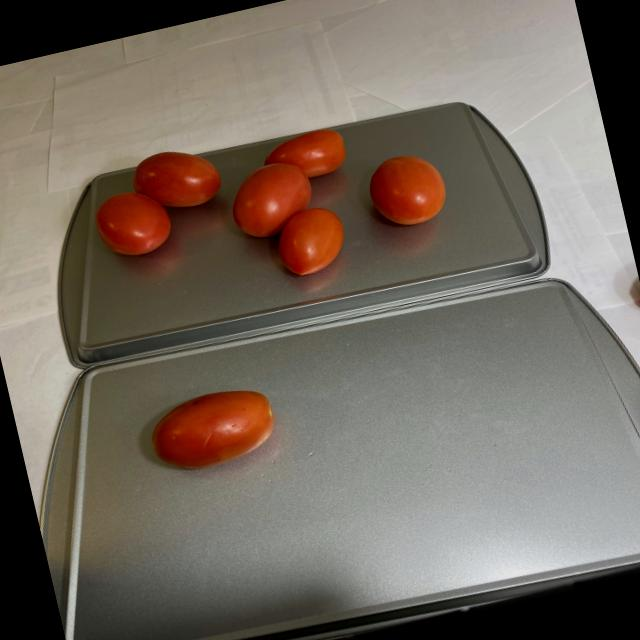tomato: (80, 90, 477, 324), (130, 374, 284, 480)
